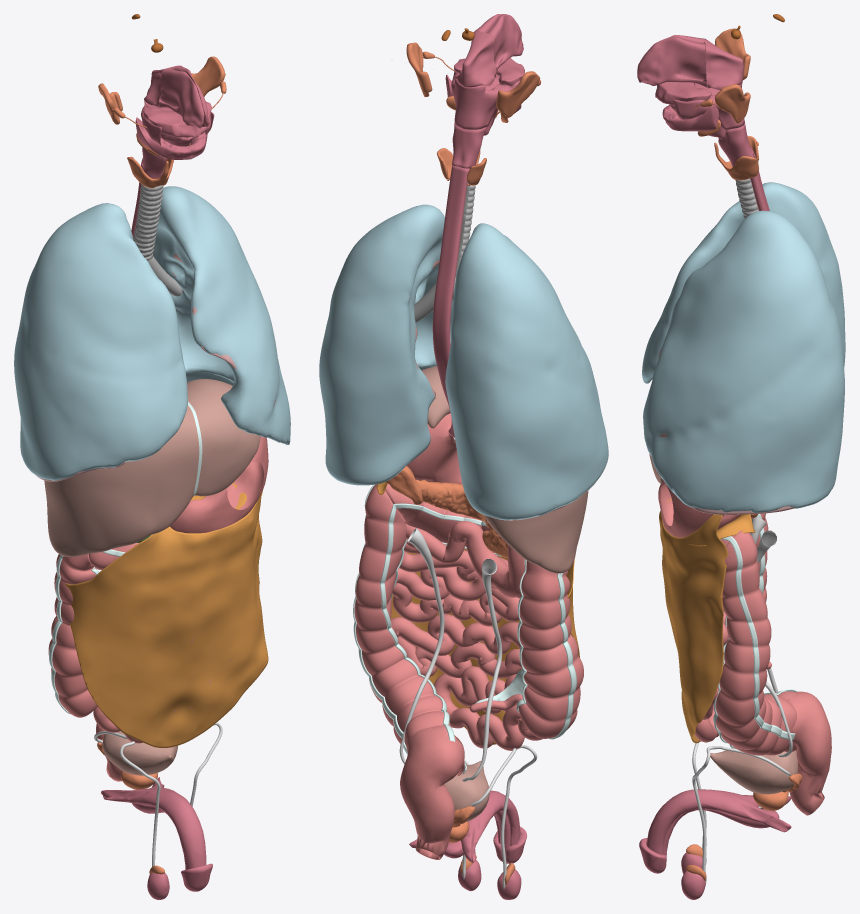
The model's file is visceral.glb.
3 renders of one model, left to right at view 1: azimuth 30°, elevation 25°; view 2: azimuth 150°, elevation 25°; view 3: azimuth 270°, elevation 25°, orthographic. The views are drawn at different scales.
Parts seen in each view (by area): view 1: Pleura, Greater omentum, Liver, Ascending colon, Stomach, Corpus cavernosum of penis, Gingiva, Mucosa of nasal cavity, Urinary bladder, Trachea, Parotid gland.l, Mesocolic taenia (+3 smaller); view 2: Pleura, Jejunum, Descending colon, Ascending colon, Sigmoid colon, Liver, Oesophagus, Duodenum, Free taenia, Stomach, Pancreas, Oropharynx (+18 smaller); view 3: Pleura, Greater omentum, Descending colon, Sigmoid colon, Corpus cavernosum of penis, Mucosa of nasal cavity, Urinary bladder, Gingiva, Stomach, Mesocolic taenia, Nasopharynx, Parotid gland.l (+13 smaller).
Part boxes in pixels (<box>): Pleura: <box>14,186,290,480</box>; Greater omentum: <box>65,484,268,747</box>; Liver: <box>44,379,260,556</box>; Ascending colon: <box>48,554,97,717</box>; Stomach: <box>170,436,268,533</box>; Corpus cavernosum of penis: <box>101,777,206,869</box>; Gingiva: <box>135,101,211,159</box>; Mucosa of nasal cavity: <box>159,65,210,128</box>; Urinary bladder: <box>102,731,177,775</box>; Trachea: <box>133,184,163,260</box>; Parotid gland.l: <box>191,56,225,96</box>; Mesocolic taenia: <box>49,549,125,713</box>; Pleura: <box>319,204,608,520</box>; Jejunum: <box>391,523,542,750</box>; Descending colon: <box>354,484,464,775</box>; Ascending colon: <box>518,560,583,738</box>; Sigmoid colon: <box>400,727,464,859</box>; Liver: <box>421,366,588,573</box>; Oesophagus: <box>432,165,469,438</box>; Duodenum: <box>449,521,526,597</box>; Free taenia: <box>380,503,527,741</box>; Stomach: <box>407,413,462,483</box>; Pancreas: <box>390,480,507,558</box>; Oropharynx: <box>451,71,520,129</box>; Pleura: <box>642,182,845,513</box>; Greater omentum: <box>659,498,728,743</box>; Descending colon: <box>715,530,796,755</box>; Sigmoid colon: <box>788,691,831,815</box>; Corpus cavernosum of penis: <box>646,789,791,854</box>; Mucosa of nasal cavity: <box>637,35,706,86</box>; Urinary bladder: <box>710,748,798,794</box>; Gingiva: <box>655,82,718,131</box>; Stomach: <box>658,481,740,537</box>; Mesocolic taenia: <box>720,536,795,739</box>; Nasopharynx: <box>705,39,743,89</box>; Parotid gland.l: <box>715,84,750,123</box>.
Bounding box in the file's own units: 0.2634 × 0.8931 × 0.1926.
